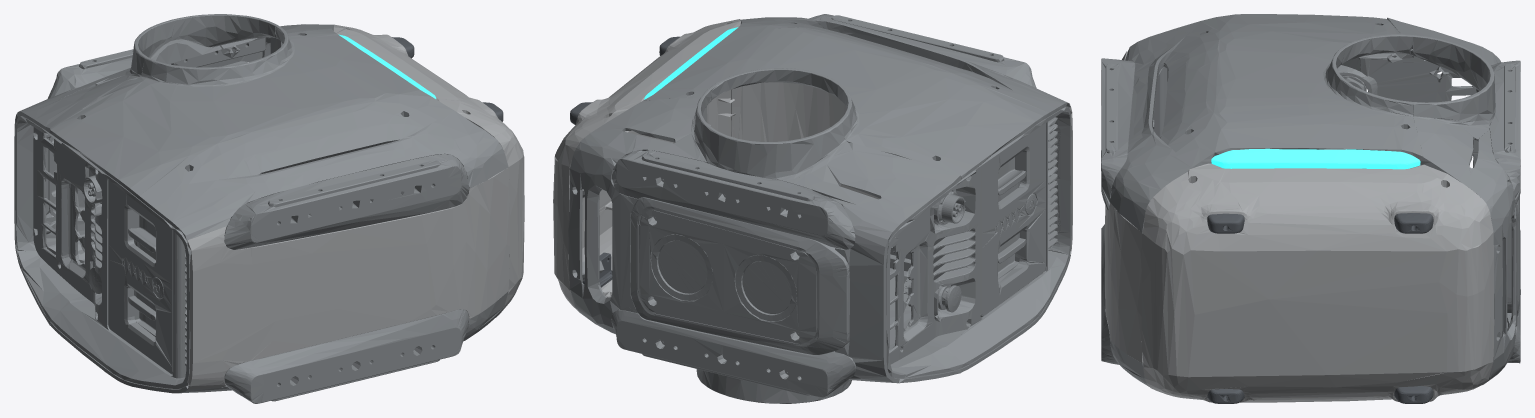
3 views of the same model, side by side, from view 1: azimuth 30°, elevation 25°; view 2: azimuth 150°, elevation 25°; view 3: azimuth 270°, elevation 25° (orthographic). The views are drawn at different scales.
Parts seen in each view (by area): view 1: Torso_Shell, Front_Panel, body_base_002, body_base_008, body_base_006, body_base_004, body_base_007, body_base_011, body_base_010, body_base_003, Light_Strip_Left; view 2: Torso_Shell, body_base_002, body_base_003, Front_Panel, body_base_007, body_base_005, body_base_004, body_base_008, body_base_017, body_base_016, body_base_013, body_base_014 (+5 smaller); view 3: Front_Panel, Torso_Shell, body_base_002, Light_Strip_Left, body_base_008, body_base_007, body_base_006, body_base_003, Front_Panel_Bumper_Lower_Left, Front_Panel_Bumper_Upper_Left, Front_Panel_Bumper_Lower_Right, Front_Panel_Bumper_Upper_Right (+1 smaller).
Part boxes in pixels (x1,y1,x2,y2): Torso_Shell: [14, 14, 508, 393]; Front_Panel: [187, 25, 524, 389]; body_base_002: [15, 116, 191, 388]; body_base_008: [224, 154, 468, 249]; body_base_006: [224, 309, 468, 403]; body_base_004: [108, 179, 173, 374]; body_base_007: [47, 37, 265, 98]; body_base_011: [128, 215, 155, 259]; body_base_010: [128, 290, 155, 336]; body_base_003: [48, 61, 247, 223]; Light_Strip_Left: [338, 34, 436, 98]; Torso_Shell: [568, 17, 1070, 403]; body_base_002: [886, 107, 1071, 378]; body_base_003: [630, 197, 849, 354]; Front_Panel: [553, 19, 1072, 312]; body_base_007: [612, 150, 855, 249]; body_base_005: [611, 309, 855, 397]; body_base_004: [933, 123, 1045, 317]; body_base_008: [809, 14, 1036, 88]; body_base_017: [658, 240, 707, 293]; body_base_016: [742, 261, 791, 313]; body_base_013: [735, 255, 796, 321]; body_base_014: [651, 234, 712, 300]; Front_Panel: [1105, 51, 1494, 402]; Torso_Shell: [1109, 14, 1517, 386]; body_base_002: [1153, 53, 1478, 167]; Light_Strip_Left: [1211, 148, 1420, 169]; body_base_008: [1101, 58, 1154, 210]; body_base_007: [1489, 60, 1520, 203]; body_base_006: [1101, 224, 1119, 364]; body_base_003: [1507, 195, 1519, 316]; Front_Panel_Bumper_Lower_Left: [1394, 213, 1433, 233]; Front_Panel_Bumper_Upper_Left: [1207, 213, 1244, 233]; Front_Panel_Bumper_Lower_Right: [1394, 386, 1433, 403]; Front_Panel_Bumper_Upper_Right: [1207, 389, 1244, 403].
Size of the model in its own units: 0.3065 by 0.2183 by 0.2793.
